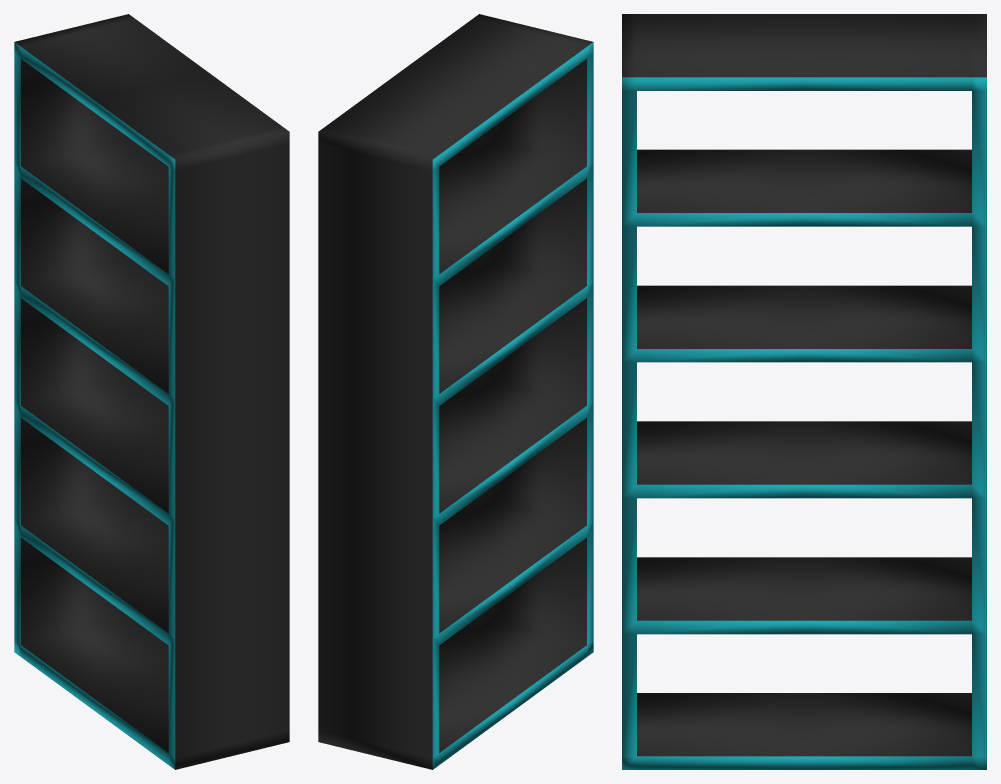
Rendered from shelf.fbx.
3 views of the same model, side by side, from view 1: azimuth 30°, elevation 25°; view 2: azimuth 150°, elevation 25°; view 3: azimuth 270°, elevation 25° (orthographic). The views are drawn at different scales.
Parts seen in each view (by area): view 1: Plane; view 2: Plane; view 3: Plane.
Boxes of the visible parts, x1,y1,x2,y2 form: Plane: [14, 14, 289, 769]; Plane: [318, 14, 593, 769]; Plane: [622, 14, 986, 769].
Bounding box in the file's own units: 200 × 1020 × 487.
